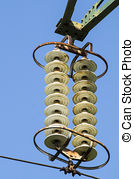isolator: (44, 49, 98, 163)
